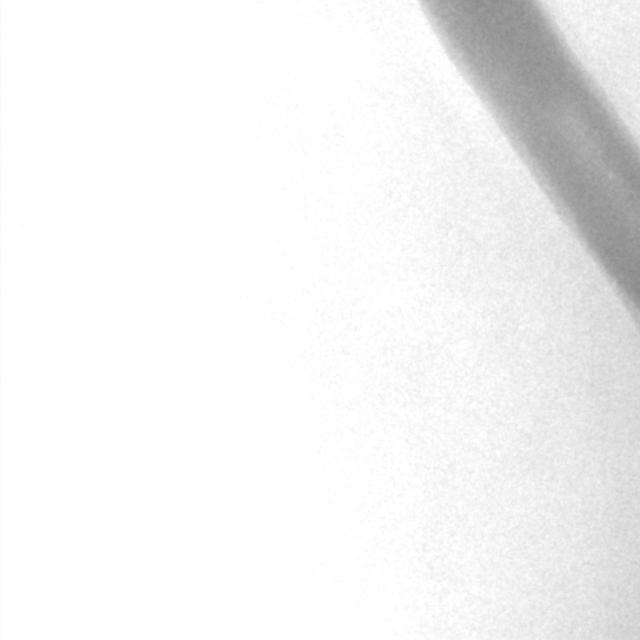air-hole: (608, 172, 615, 178)
